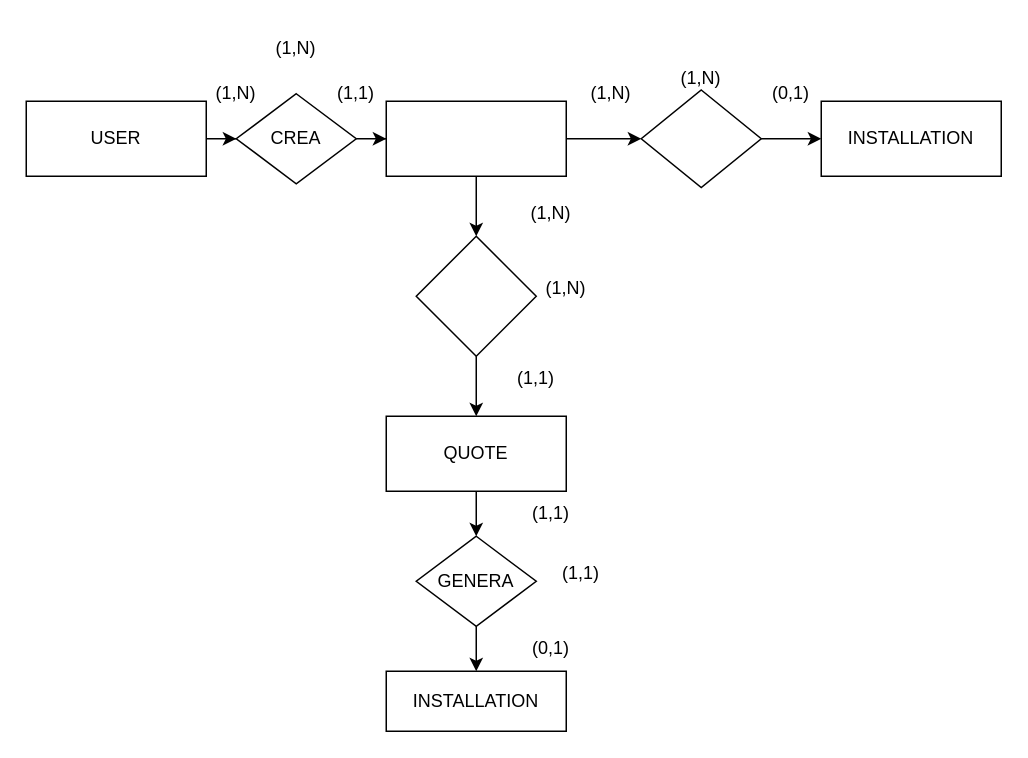
Image size: 1028x758. Some labels were removed from this diagram. Each missing label, with the centre of its shape:
"CLIENT" goes at pixel 475 138.
"HACE" goes at pixel 475 295.
"TIENE" goes at pixel 700 138.
